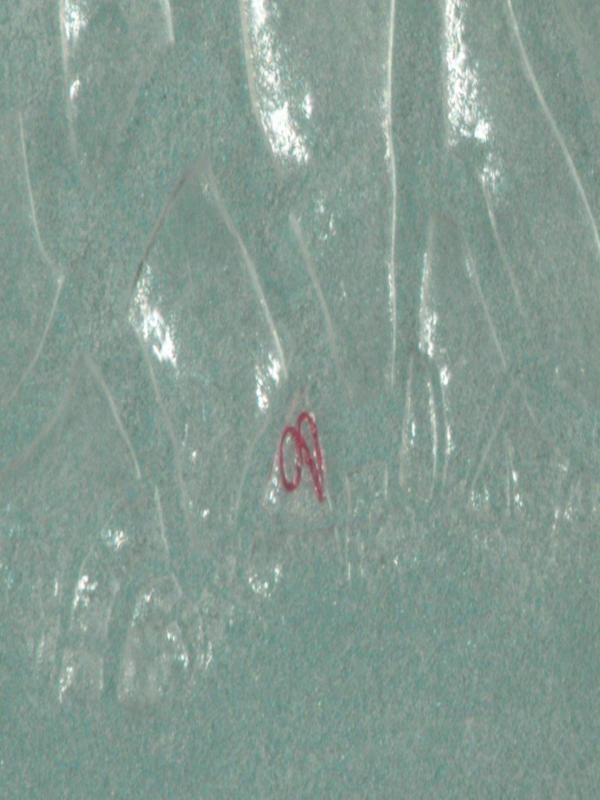microplastic: (2, 1, 598, 792)
